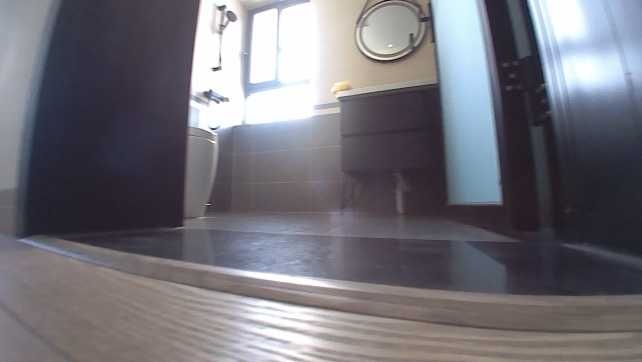door_sill: (18, 229, 640, 336)
toilet: (178, 125, 223, 218)
washstand: (329, 80, 446, 216)
